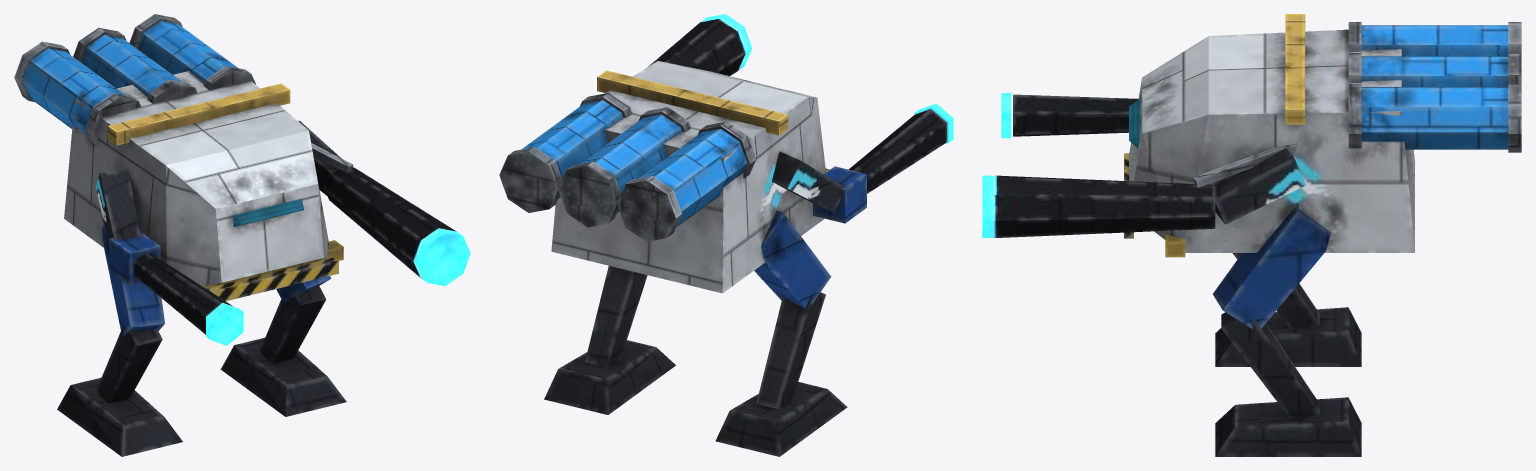
File: u_pyro3_w.glb
The picture shows the model from 3 angles, left to right: view 1: azimuth 30°, elevation 25°; view 2: azimuth 150°, elevation 25°; view 3: azimuth 270°, elevation 25°; orthographic projection. The views are drawn at different scales.
Parts seen in each view (by area): view 1: u_pyro3_w; view 2: u_pyro3_w; view 3: u_pyro3_w.
Boxes of the visible parts, <box> form: u_pyro3_w: <box>14,14,470,456</box>; u_pyro3_w: <box>499,14,953,456</box>; u_pyro3_w: <box>982,14,1521,456</box>.
Size of the model in its own units: 1.2 by 1.38 by 1.97.
1 material, 1 textured.
